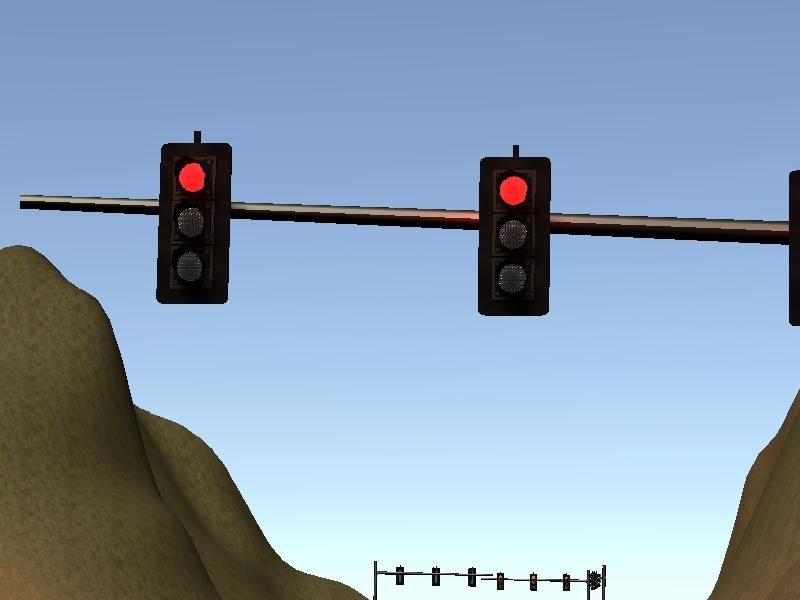red: (156, 140, 232, 306), (476, 154, 552, 320)
